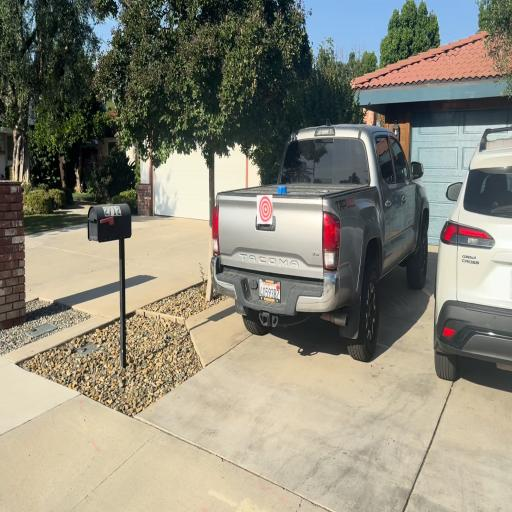bullseye: (258, 194, 273, 225)
